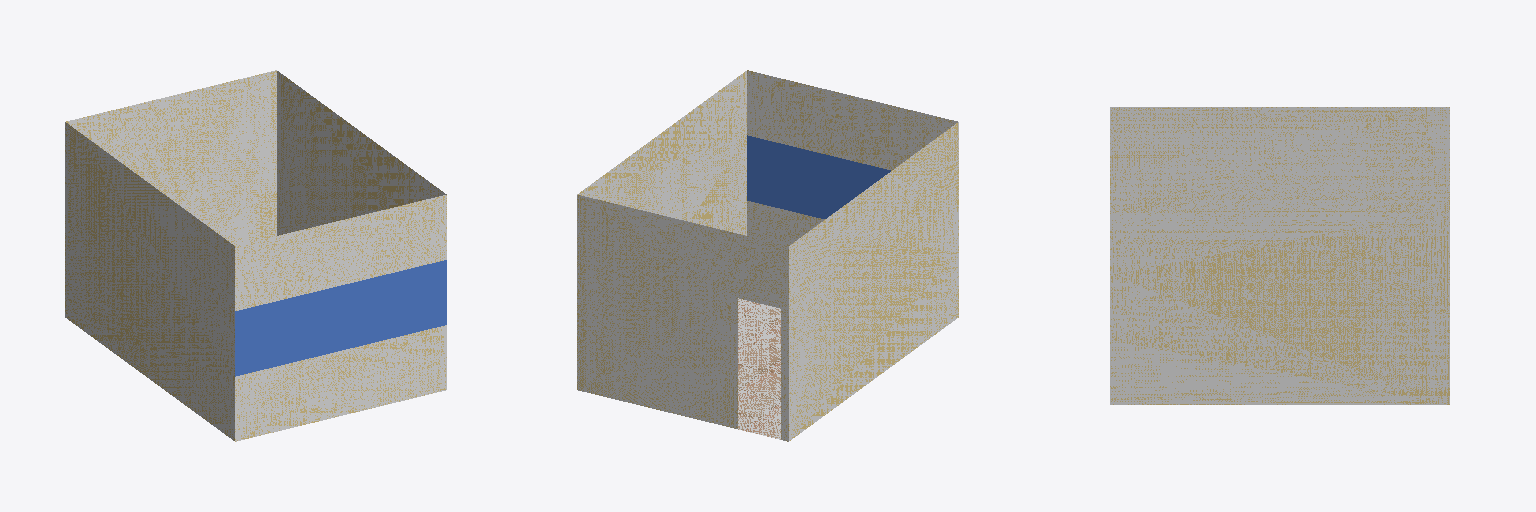
The picture shows the model from 3 angles: view 1: azimuth 30°, elevation 25°; view 2: azimuth 150°, elevation 25°; view 3: azimuth 270°, elevation 25°; orthographic projection.
Visible parts, largest first — view 1: Mesh1 LAB007 Model; view 2: Mesh1 LAB007 Model; view 3: Mesh1 LAB007 Model.
Part boxes in pixels (x1,y1,x2,y2): Mesh1 LAB007 Model: (65,70,446,441); Mesh1 LAB007 Model: (577,70,958,441); Mesh1 LAB007 Model: (1110,107,1449,404).
Size of the model in its own units: 3.39 by 3 by 4.72.
5 materials, 1 textured.